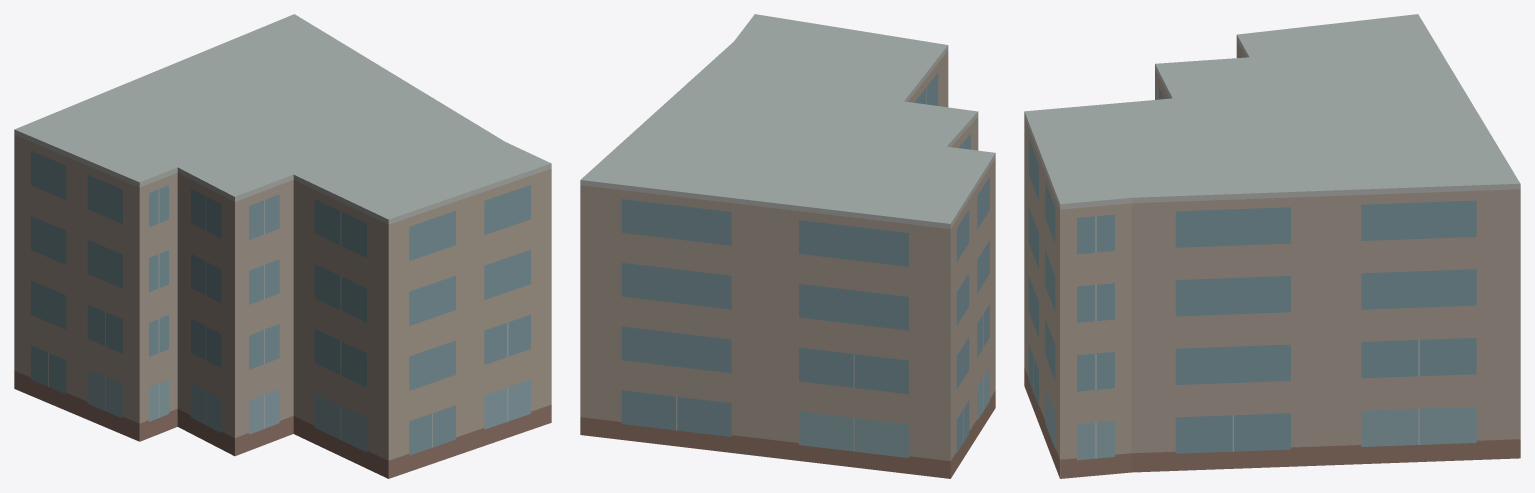
Rendered from residential-12549328-3117-4a80-a8ae-ac302810f2d9.glb.
3 renders of one model, left to right at view 1: azimuth 30°, elevation 25°; view 2: azimuth 150°, elevation 25°; view 3: azimuth 270°, elevation 25°, orthographic. The views are drawn at different scales.
Parts seen in each view (by area): view 1: residential-12549328-3117-4a80-a8ae-ac302810f2d9.tmp; view 2: residential-12549328-3117-4a80-a8ae-ac302810f2d9.tmp; view 3: residential-12549328-3117-4a80-a8ae-ac302810f2d9.tmp.
Boxes of the visible parts, <box> form: residential-12549328-3117-4a80-a8ae-ac302810f2d9.tmp: <box>14,14,551,478</box>; residential-12549328-3117-4a80-a8ae-ac302810f2d9.tmp: <box>580,14,995,478</box>; residential-12549328-3117-4a80-a8ae-ac302810f2d9.tmp: <box>1024,14,1520,478</box>.
Size of the model in its own units: 18.13 by 12.2 by 19.98.
